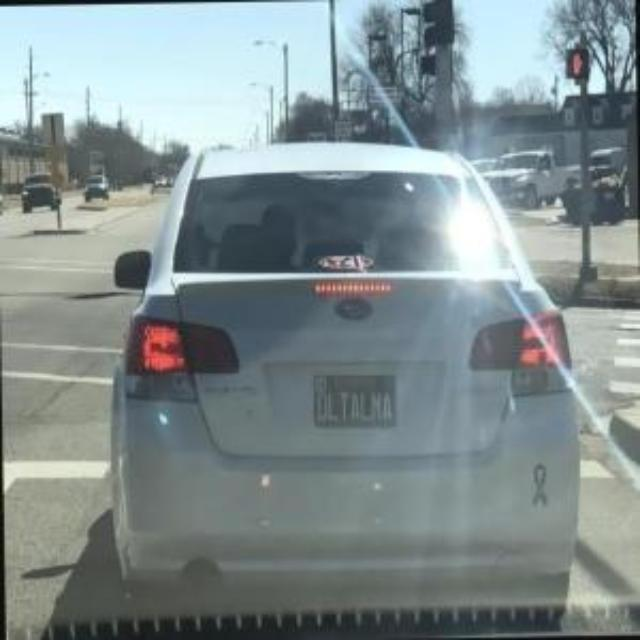License Plate: (312, 373, 399, 431)
